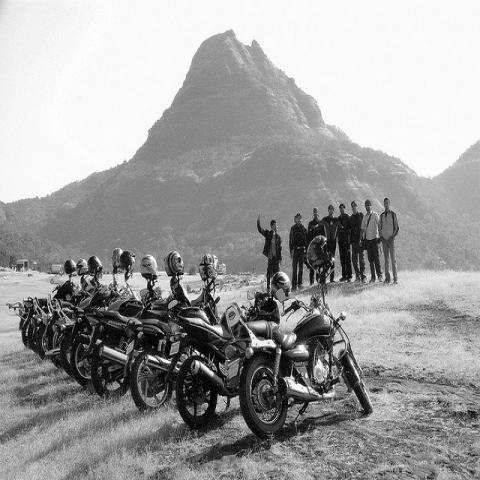motorcycle: (227, 257, 372, 440), (166, 290, 281, 428), (50, 249, 164, 386), (115, 277, 224, 417), (91, 251, 190, 403), (32, 261, 120, 360), (6, 258, 81, 349), (44, 296, 72, 376), (68, 250, 104, 306), (23, 295, 40, 355)
